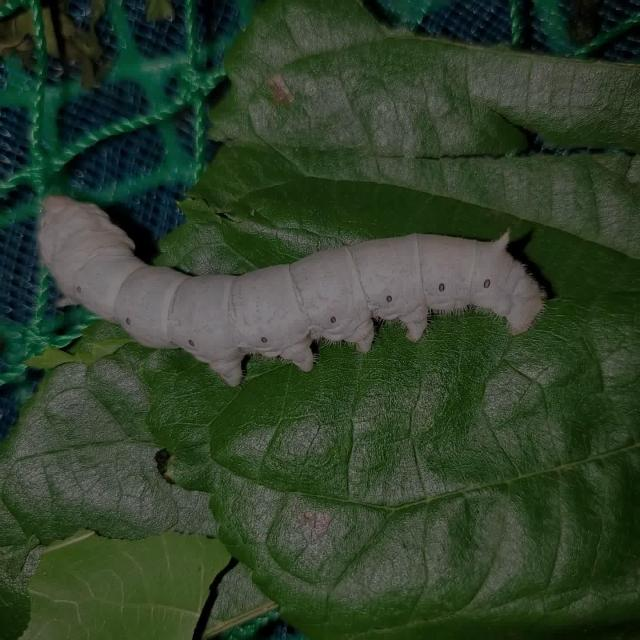Healthy: (32, 176, 552, 396)
